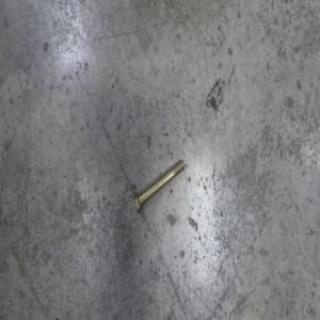Bolttrack_idkeyframe: (131, 154, 185, 215)
